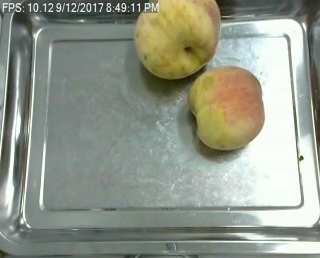Peach: (134, 0, 220, 79), (188, 65, 265, 150)
